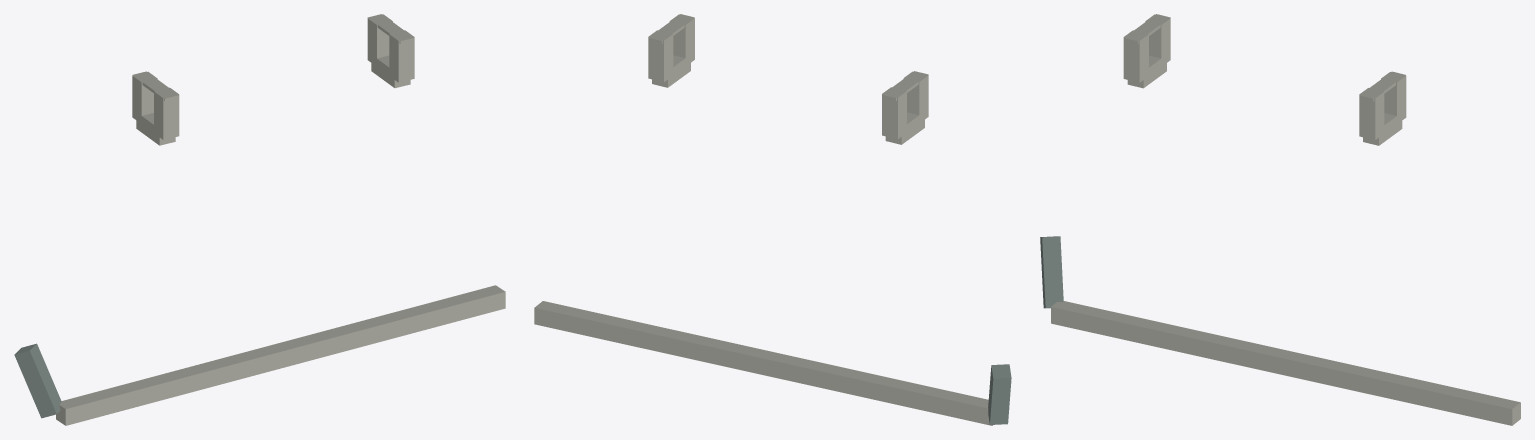
The model's file is SM_CatenariaLosa_v3_Caida_LOD1.fbx.
3 renders of one model, left to right at view 1: azimuth 30°, elevation 25°; view 2: azimuth 150°, elevation 25°; view 3: azimuth 330°, elevation 25°, orthographic.
Visible parts, largest first — view 1: SM_catenaria_losa_v3_LOD1; view 2: SM_catenaria_losa_v3_LOD1; view 3: SM_catenaria_losa_v3_LOD1.
Boxes of the visible parts, <box> form: SM_catenaria_losa_v3_LOD1: <box>14,14,505,425</box>; SM_catenaria_losa_v3_LOD1: <box>534,14,1011,425</box>; SM_catenaria_losa_v3_LOD1: <box>1040,14,1520,425</box>.
Bounding box in the file's own units: 10.23 × 6.42 × 1.44.
